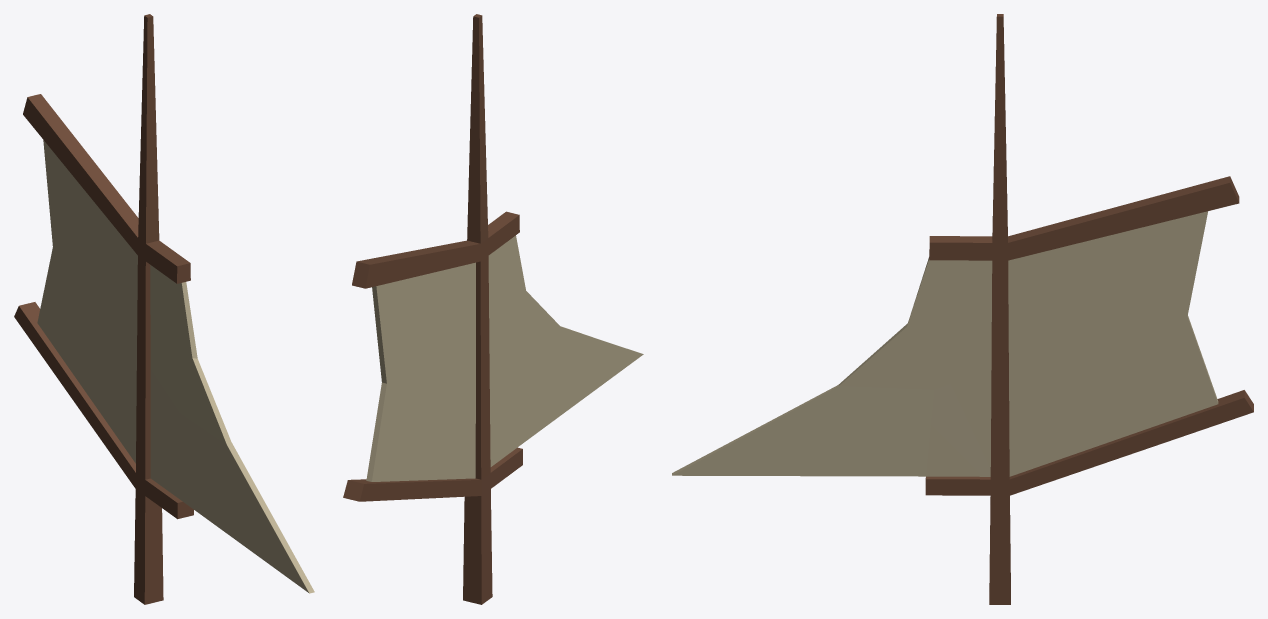
File: Just Sail.glb
The picture shows the model from 3 angles, left to right: view 1: azimuth 30°, elevation 25°; view 2: azimuth 150°, elevation 25°; view 3: azimuth 270°, elevation 25°; orthographic projection.
Parts seen in each view (by area): view 1: Sail; view 2: Sail; view 3: Sail.
Part boxes in pixels (bbox=[...]): Sail: bbox=[14, 14, 314, 604]; Sail: bbox=[343, 14, 643, 604]; Sail: bbox=[672, 14, 1253, 604].
Size of the model in its own units: 0.0278 by 0.8236 by 0.7426.
